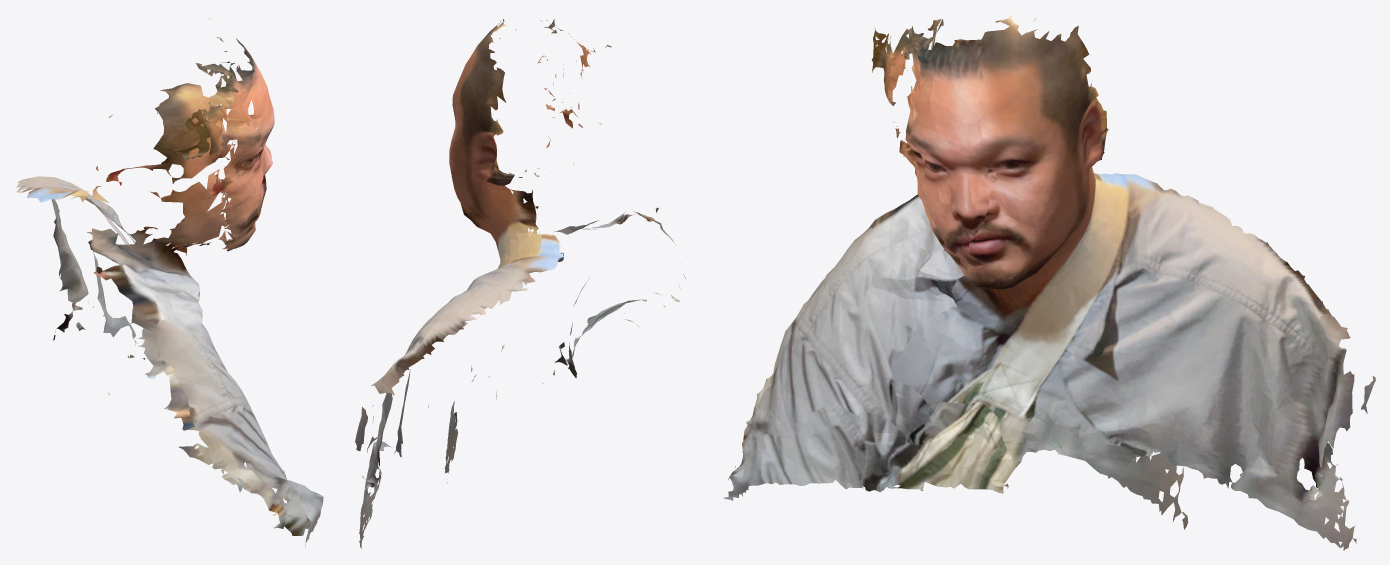
File: tado_2.glb
The picture shows the model from 3 angles, left to right: view 1: azimuth 30°, elevation 25°; view 2: azimuth 150°, elevation 25°; view 3: azimuth 270°, elevation 25°; orthographic projection. The views are drawn at different scales.
Parts seen in each view (by area): view 1: Mesh_0; view 2: Mesh_0; view 3: Mesh_0.
Boxes of the visible parts, x1,y1,x2,y2 form: Mesh_0: (15,18,323,547); Mesh_0: (355,19,685,548); Mesh_0: (723,14,1375,550).
Bounding box in the file's own units: 1.19 × 2.75 × 3.08.
1 material, 1 textured.
